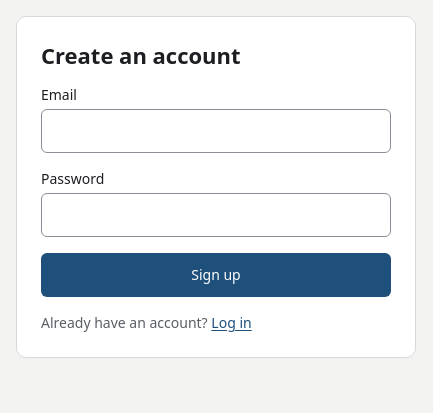
auth screens › sign-up maps RATE_LIMITED to its message
In the field labelled "Email": (216, 131) left=41, top=109, right=391, bottom=153, type "iryna@example.com"
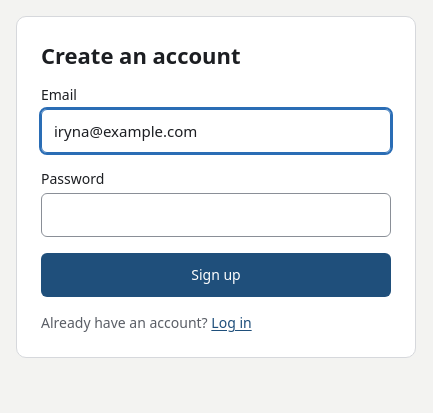
In the password field labelled "Password": (216, 215) left=41, top=193, right=391, bottom=237, type "correct horse"
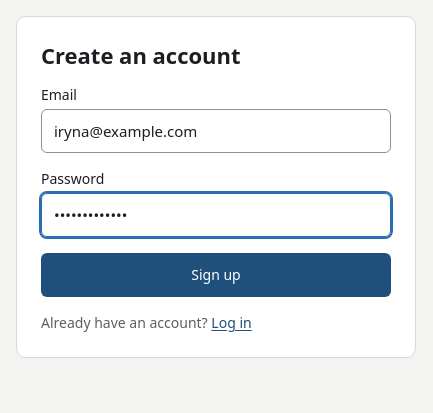
Click the button "Sign up": (216, 275) left=41, top=253, right=391, bottom=297
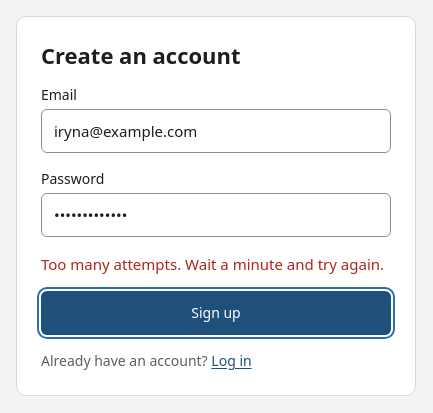
Expected: the message reads "Too many attempts. Wait a minute and try again.", left=41, top=254, right=384, bottom=274
